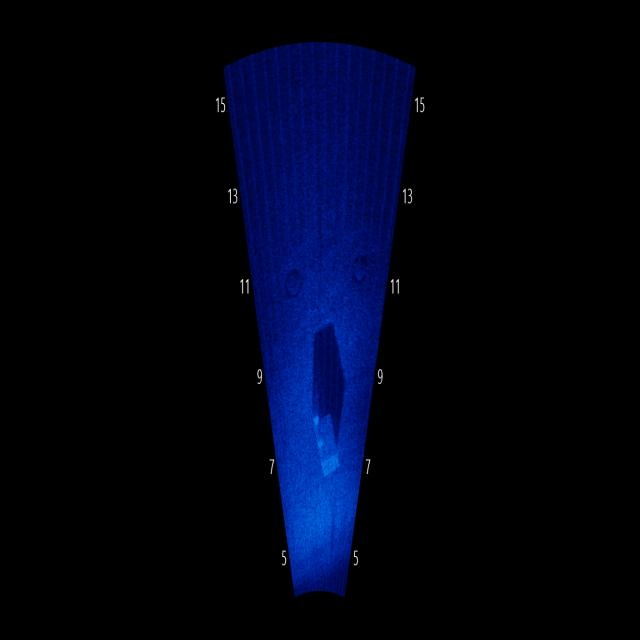square: (297, 401, 350, 493)
